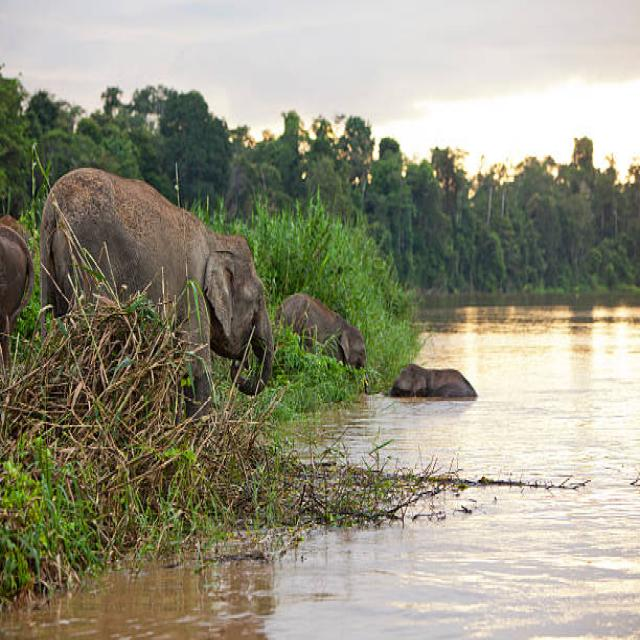Elephant: (36, 166, 282, 404), (278, 283, 370, 391), (390, 352, 486, 417)
